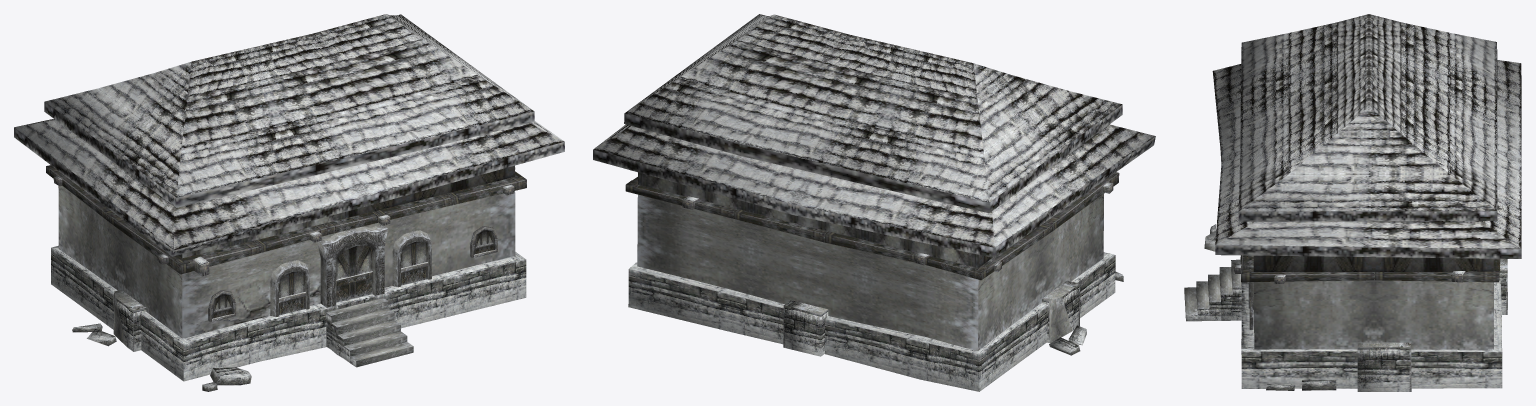
The model's file is S_Build_Snowland027.FBX.
3 renders of one model, left to right at view 1: azimuth 30°, elevation 25°; view 2: azimuth 150°, elevation 25°; view 3: azimuth 270°, elevation 25°, orthographic. The views are drawn at different scales.
Visible parts, largest first — view 1: S_Build_Snowland027; view 2: S_Build_Snowland027; view 3: S_Build_Snowland027.
Boxes of the visible parts, box(x1,y1,x2,y2) form: S_Build_Snowland027: box(14, 14, 564, 391); S_Build_Snowland027: box(593, 14, 1155, 391); S_Build_Snowland027: box(1184, 14, 1521, 391).
Bounding box in the file's own units: 1408 × 1041 × 847.
